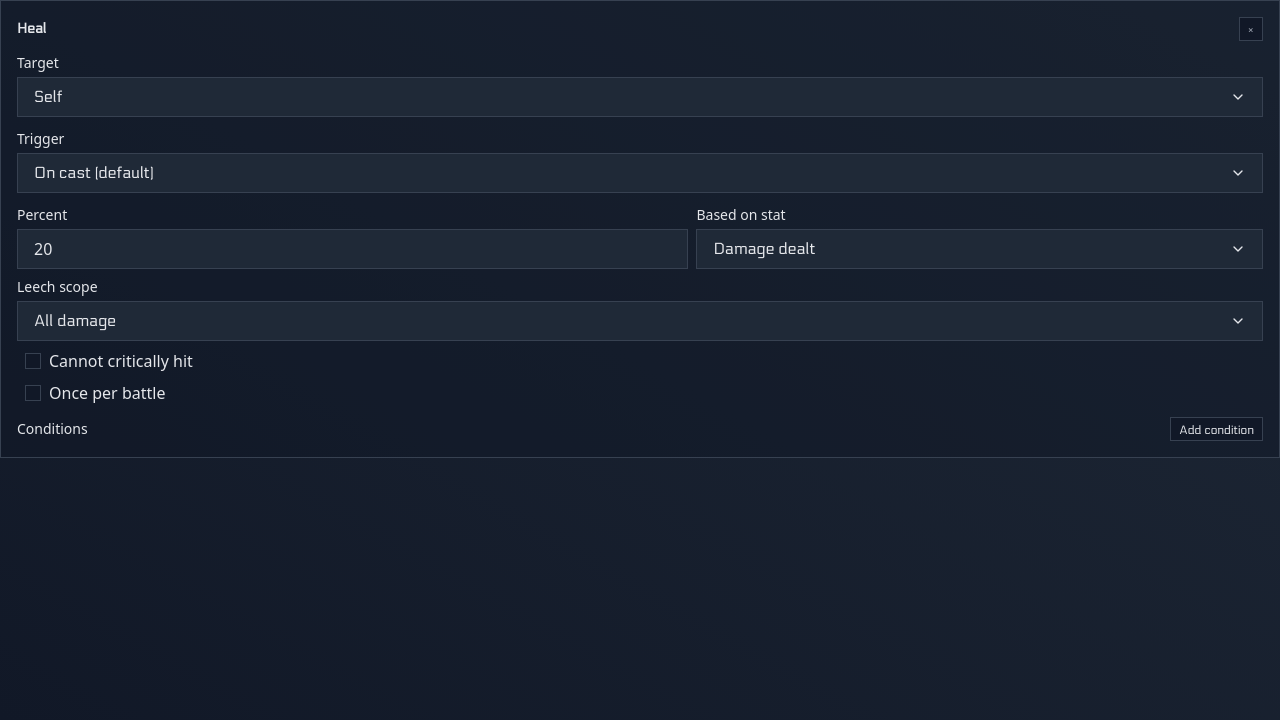
Test case: AbilityCard › heal / shield / cleanse abilities › damage-dealt heal on passive slot renders the basis select and a leech-scope select
This screenshot has width=1280, height=720.
Note: Basis select shows the damage-dealt option as selected.
Click the label labelled "Based on stat" at (741, 214), box [696, 205, 786, 224]
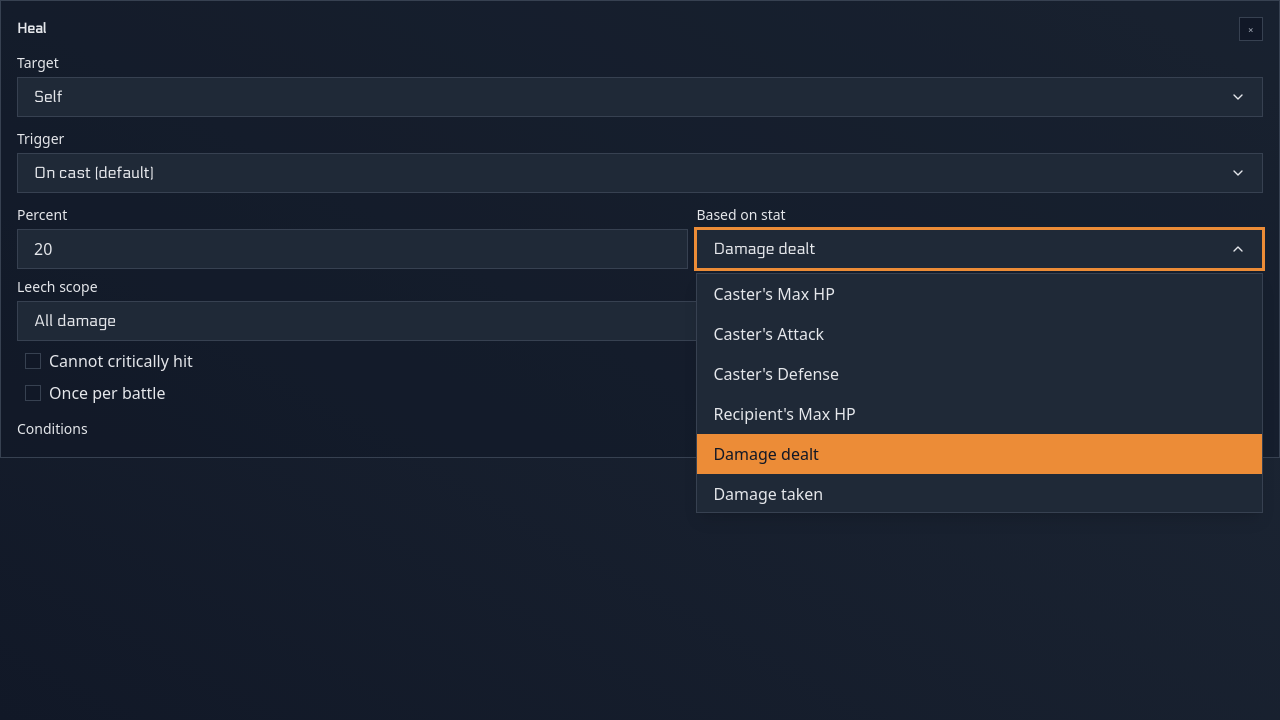
Expected: the text "Damage dealt" is shown, [713, 237, 816, 261]
Note: Scope select with its two options.
Click the label labelled "Leech scope" at (57, 286), box [17, 277, 98, 296]
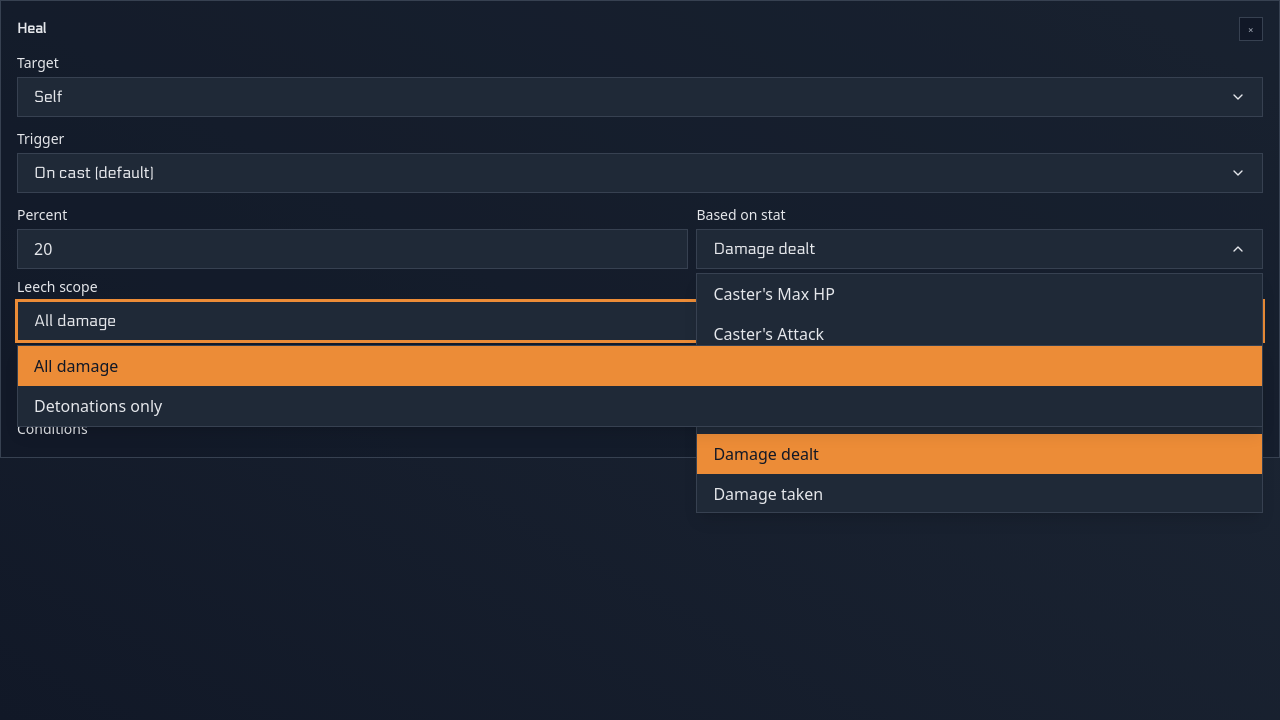
Expected: the text "All damage" is shown, [34, 309, 116, 333]
Now the option "Detonations only" is shown, box [34, 395, 162, 417]
